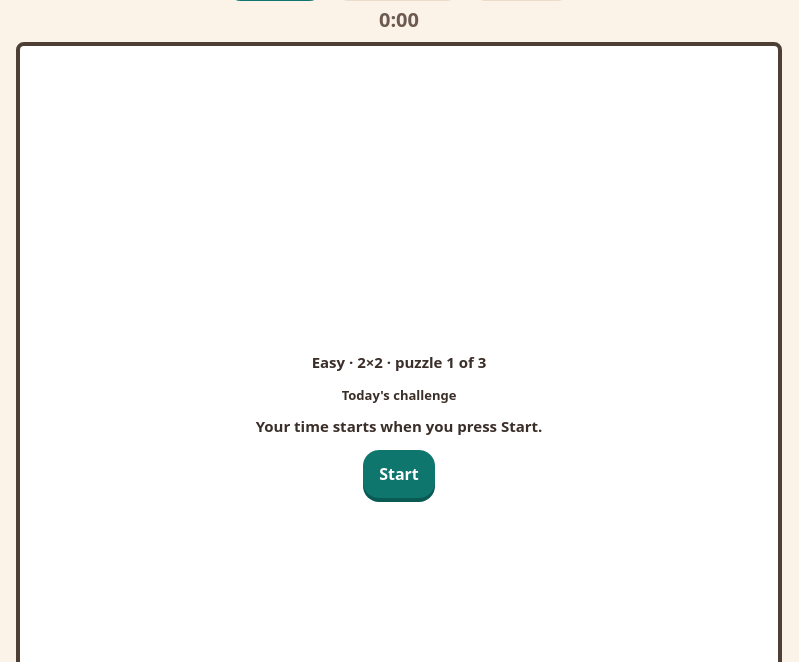
it: the finish (rules 15-16) › a hinted solve keeps its time, marked
Step 1. Click the button "Start" → (399, 474), box x1=363 y1=450 x2=435 y2=498
(page scrolled)
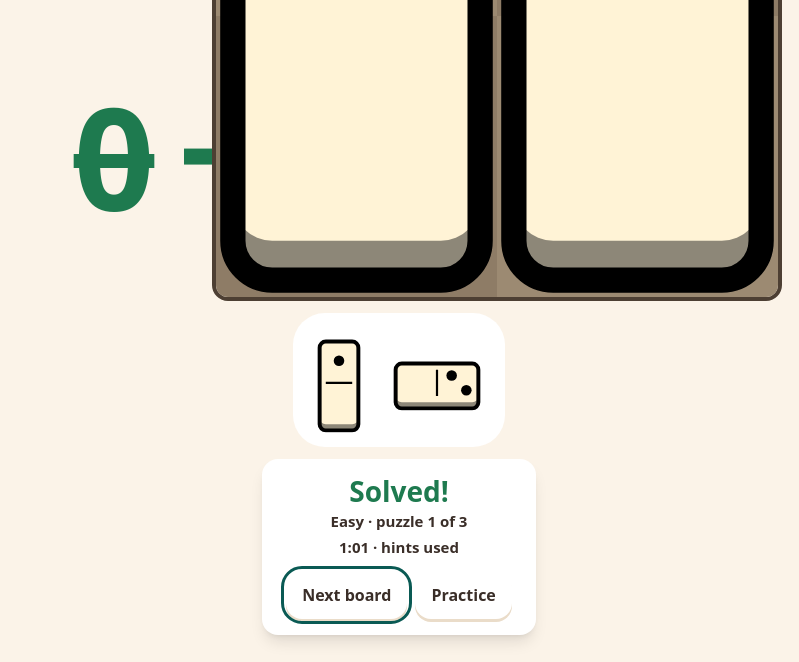
expect the message "Solved! Easy · puzzle 1 of 3 1:01 · hints used Next board Practice" is shown: met, box x1=262 y1=459 x2=536 y2=635
